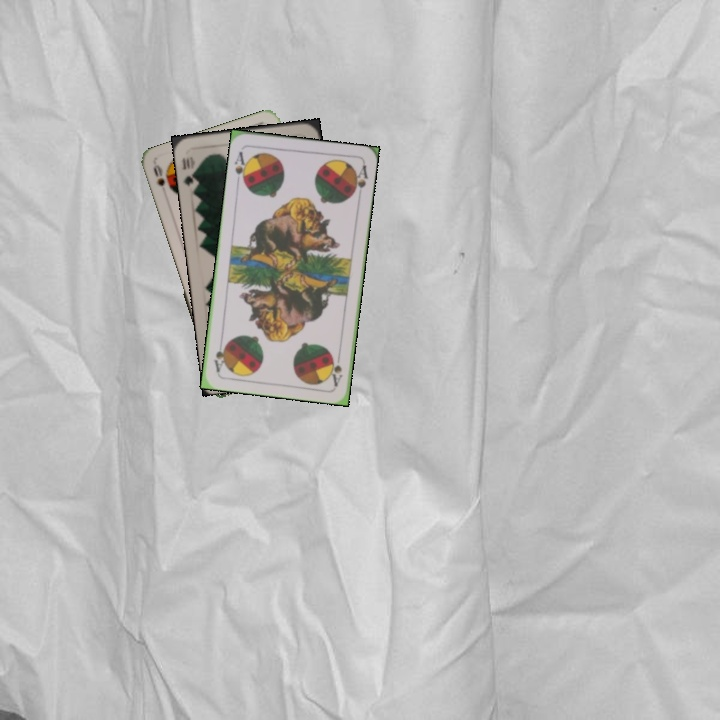G10: (178, 153, 200, 189)
SA: (231, 147, 251, 187), (327, 347, 345, 388)
SO: (149, 161, 167, 189)
